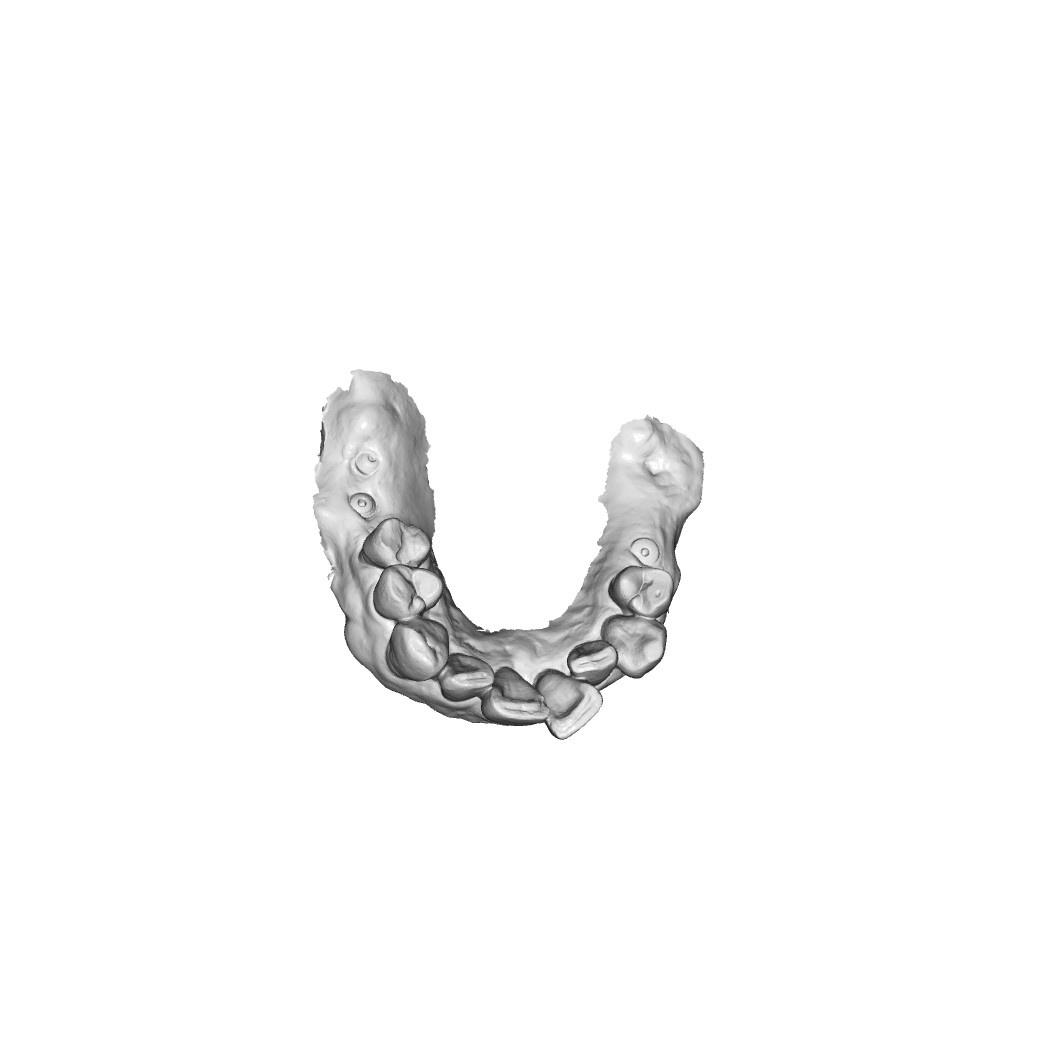canine: (598, 612, 670, 679), (385, 619, 453, 683)
implant: (342, 483, 379, 519), (629, 533, 662, 566)
incisor: (538, 670, 602, 741), (484, 663, 549, 729), (565, 637, 623, 685), (443, 653, 495, 702)
premolar: (370, 564, 440, 620), (361, 518, 431, 568), (614, 567, 674, 615)
